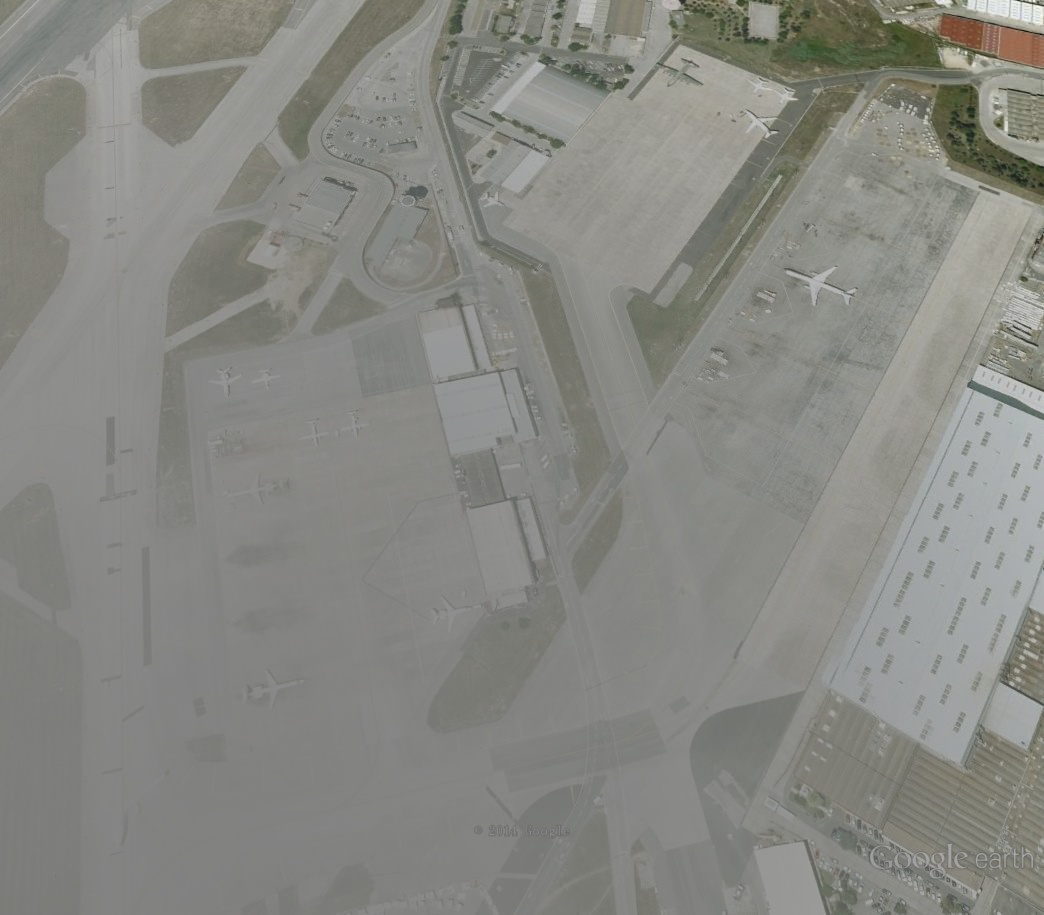aircraft: (783, 264, 862, 310), (239, 667, 309, 715), (427, 594, 488, 634), (225, 472, 292, 508), (205, 365, 246, 401), (744, 107, 784, 140), (335, 408, 372, 442), (296, 417, 333, 449), (251, 365, 284, 393), (746, 75, 777, 96), (478, 189, 507, 210), (773, 88, 800, 106)
